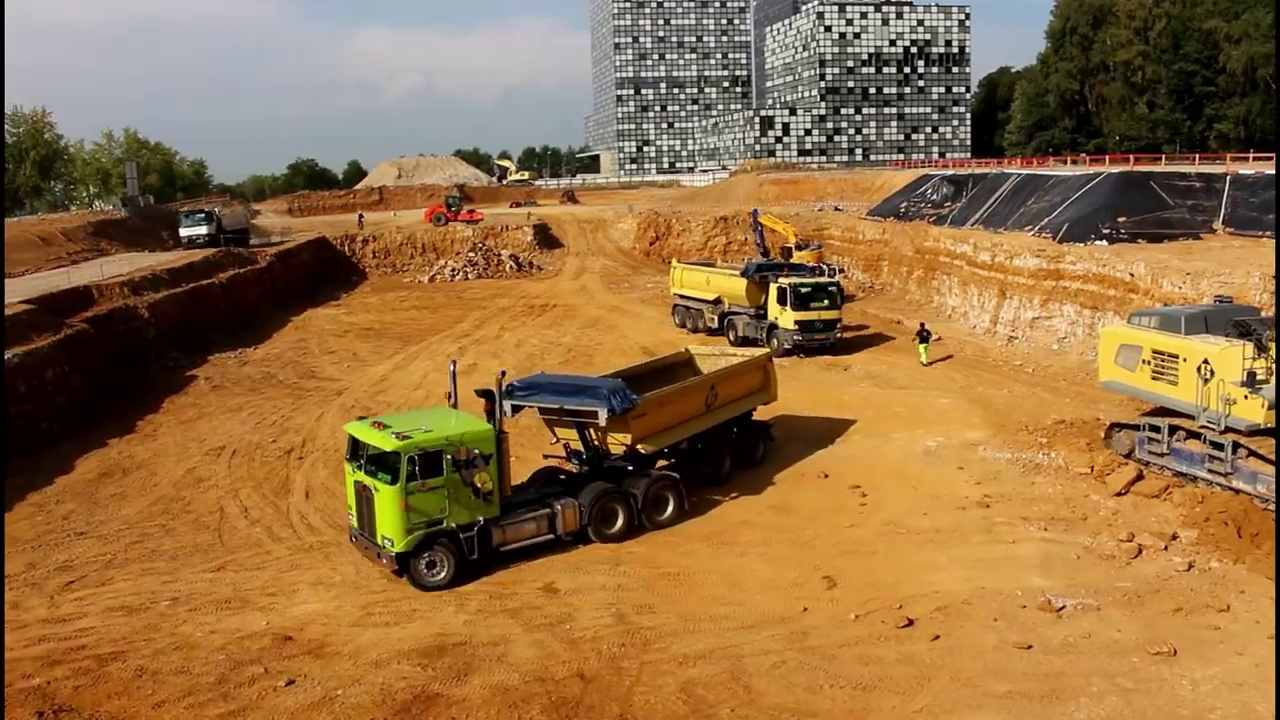compactor: (420, 192, 486, 228)
excavator: (1088, 288, 1280, 506), (746, 203, 838, 303), (488, 152, 537, 188)
truck: (340, 344, 782, 595), (667, 255, 850, 355), (175, 202, 254, 254)
worker: (910, 321, 936, 371), (354, 207, 371, 233)
